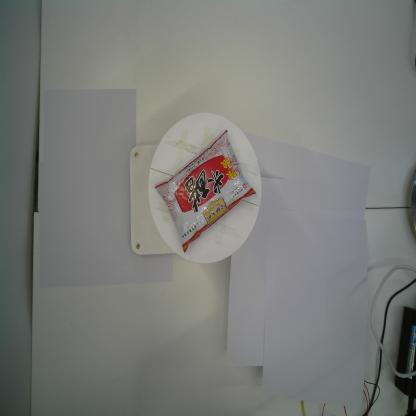Seasoner: (151, 127, 258, 254)
